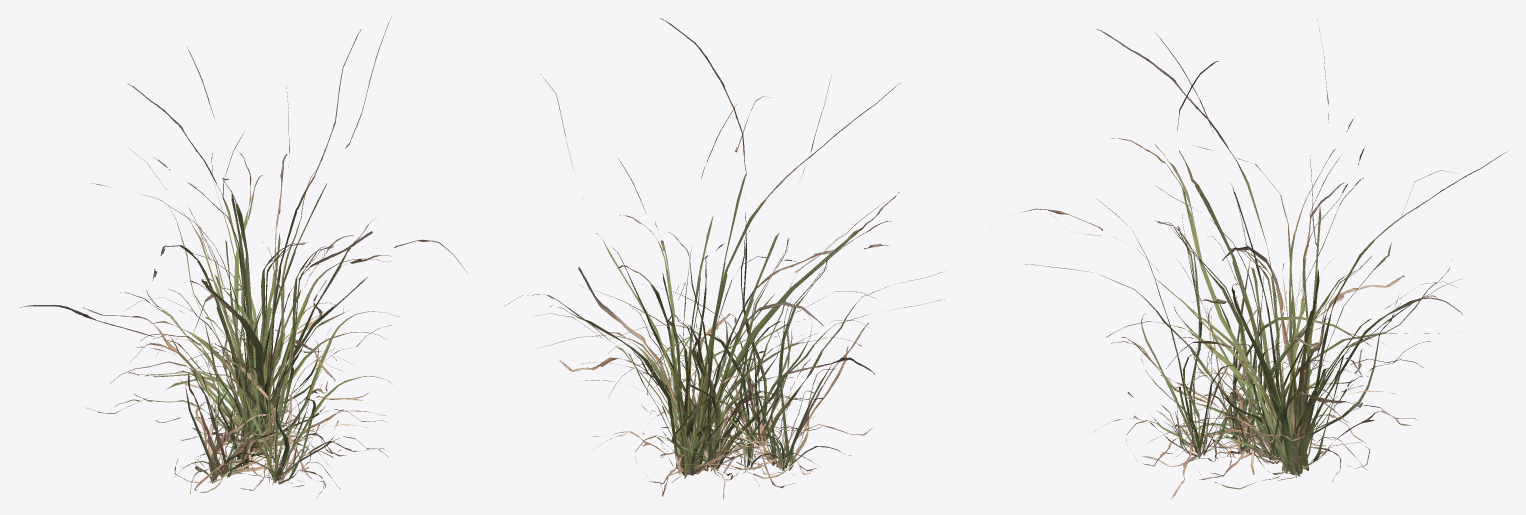
The model's file is grass_medium_02_LOD1.fbx.
3 renders of one model, left to right at view 1: azimuth 30°, elevation 25°; view 2: azimuth 150°, elevation 25°; view 3: azimuth 270°, elevation 25°, orthographic. The views are drawn at different scales.
Visible parts, largest first — view 1: grass_medium_02_e.001, grass_medium_02_d.001, grass_medium_02_c.001, grass_medium_02_b.001, grass_medium_02_a.001; view 2: grass_medium_02_e.001, grass_medium_02_d.001, grass_medium_02_b.001, grass_medium_02_c.001, grass_medium_02_a.001; view 3: grass_medium_02_e.001, grass_medium_02_d.001, grass_medium_02_c.001, grass_medium_02_b.001, grass_medium_02_a.001.
Part boxes in pixels (<box>): grass_medium_02_e.001: <box>20,17,466,466</box>; grass_medium_02_d.001: <box>110,153,390,488</box>; grass_medium_02_c.001: <box>185,242,400,498</box>; grass_medium_02_b.001: <box>174,296,343,493</box>; grass_medium_02_a.001: <box>181,314,302,481</box>; grass_medium_02_e.001: <box>505,18,900,496</box>; grass_medium_02_d.001: <box>534,219,944,499</box>; grass_medium_02_b.001: <box>672,299,871,482</box>; grass_medium_02_c.001: <box>610,198,942,446</box>; grass_medium_02_a.001: <box>662,322,795,475</box>; grass_medium_02_e.001: <box>1002,19,1507,477</box>; grass_medium_02_d.001: <box>1025,177,1452,489</box>; grass_medium_02_c.001: <box>1094,199,1383,498</box>; grass_medium_02_b.001: <box>1121,235,1365,474</box>; grass_medium_02_a.001: <box>1176,275,1306,456</box>.
Size of the model in its own units: 0.3556 by 0.4036 by 0.4317.
1 material, 1 textured.
